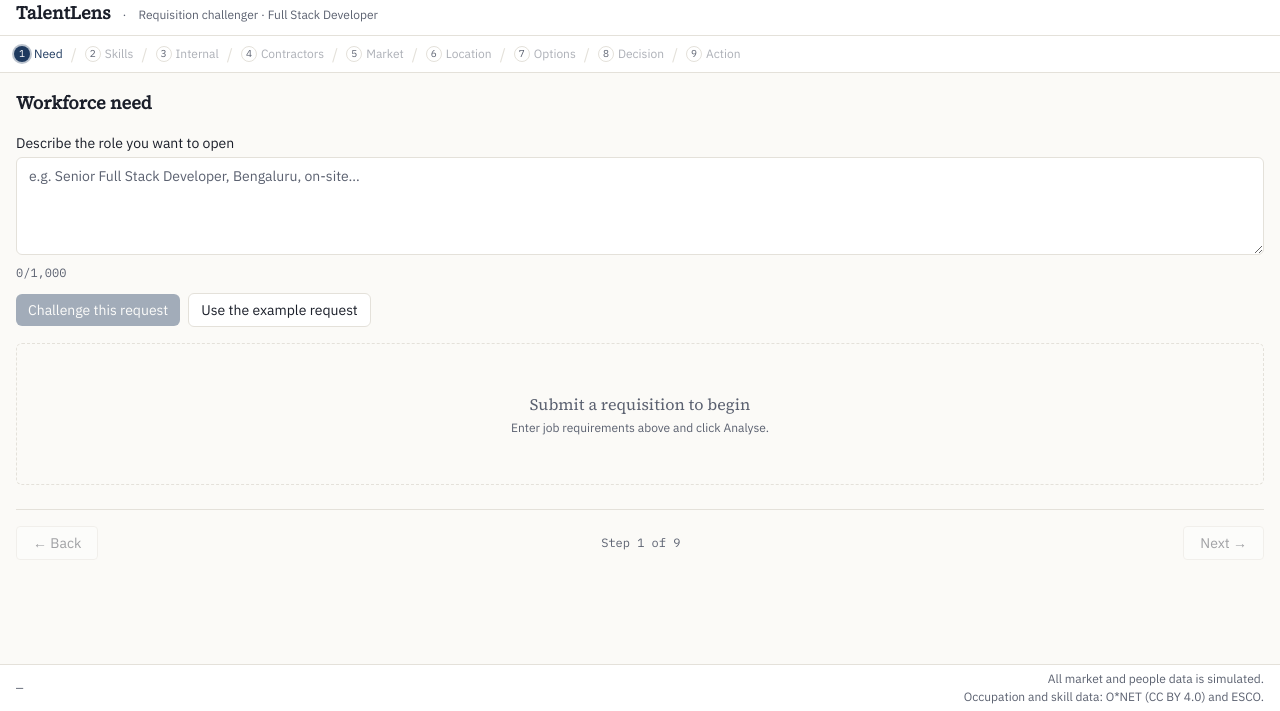
Sync: Déjà Req numbers from fixture › banner text matches fixture
The width and height of the screenshot is (1280, 711).
Click the button "Use the example request" at [280, 310], box [188,293,371,327]
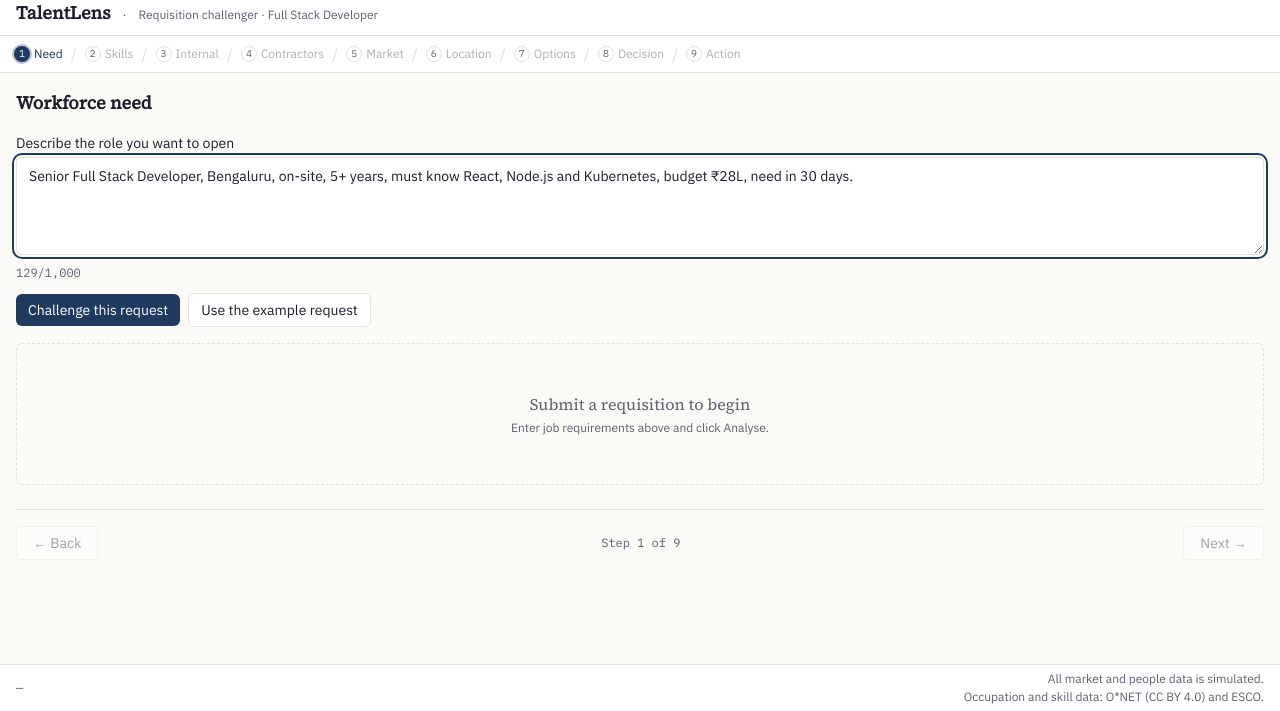
Click the button "Challenge this request" at [98, 310], box [16,294,180,326]
(page scrolled)
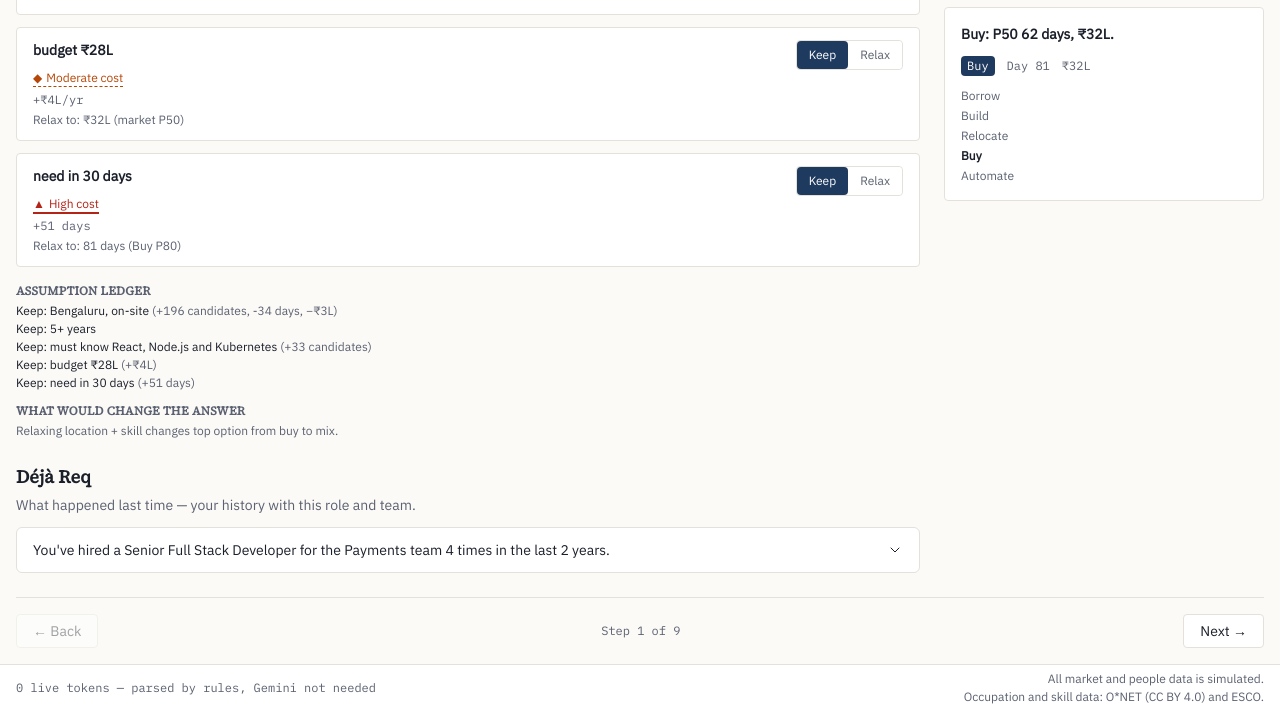
Expected: the text "You've hired a Senior Full Stack Developer for the Payments team 4 times in the last 2 years." is shown, [33,541,610,559]
